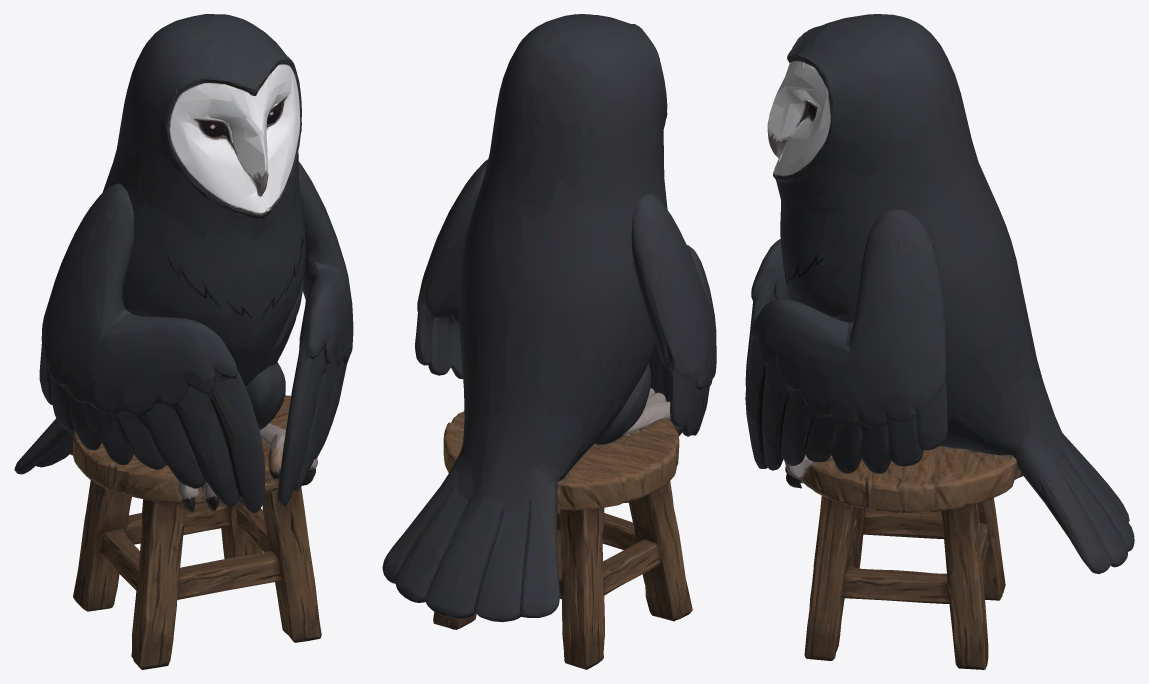
File: wanshitong2.glb
The picture shows the model from 3 angles, left to right: view 1: azimuth 30°, elevation 25°; view 2: azimuth 150°, elevation 25°; view 3: azimuth 270°, elevation 25°; orthographic projection. The views are drawn at different scales.
Visible parts, largest first — view 1: Mesh_0; view 2: Mesh_0; view 3: Mesh_0.
Part boxes in pixels (box(x1,y1,x2,y2)): Mesh_0: box(14, 14, 353, 669); Mesh_0: box(382, 14, 716, 669); Mesh_0: box(745, 14, 1134, 669).
Size of the model in its own units: 0.9502 by 1.9 by 1.12.
1 material, 1 textured.
